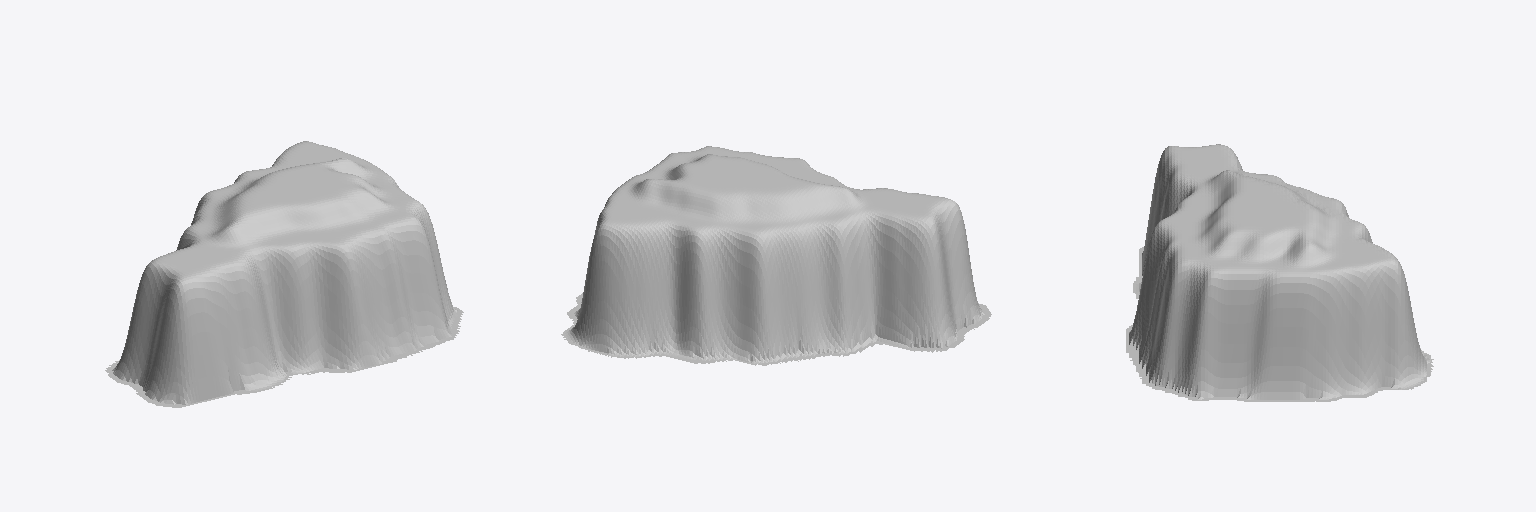
Rendered from mountain1.obj.
3 renders of one model, left to right at view 1: azimuth 30°, elevation 25°; view 2: azimuth 150°, elevation 25°; view 3: azimuth 270°, elevation 25°, orthographic.
Parts seen in each view (by area): view 1: Plane.001; view 2: Plane.001; view 3: Plane.001.
Boxes of the visible parts, box(x1,y1,x2,y2) form: Plane.001: box(105, 141, 463, 407); Plane.001: box(561, 146, 991, 365); Plane.001: box(1126, 144, 1433, 401).
Bounding box in the file's own units: 266 × 98.04 × 212.